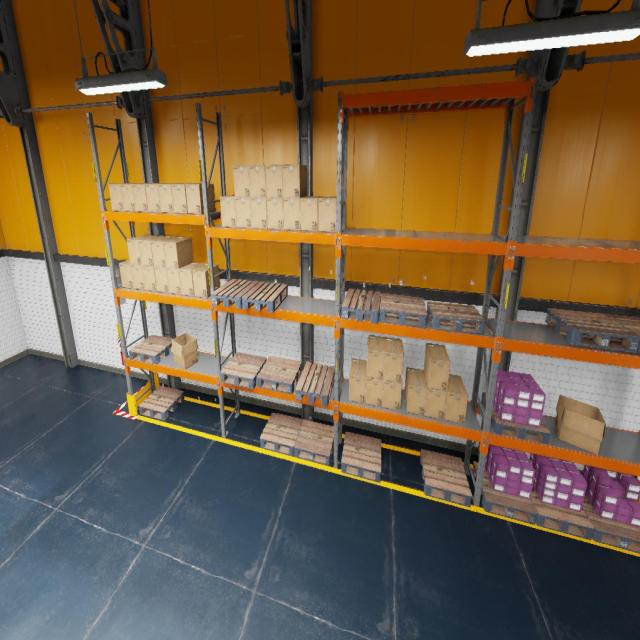box: (555, 394, 606, 454), (424, 343, 450, 391), (445, 374, 468, 424), (424, 370, 447, 420), (405, 367, 427, 415), (192, 263, 220, 298), (171, 333, 198, 369), (164, 237, 194, 268), (185, 184, 215, 214), (150, 236, 178, 268), (179, 262, 205, 296), (384, 337, 403, 383), (138, 235, 166, 266), (366, 335, 385, 380), (127, 235, 155, 265), (282, 165, 307, 198), (145, 183, 173, 212), (348, 358, 366, 403), (300, 196, 322, 231), (132, 183, 158, 212), (120, 183, 143, 212), (158, 183, 180, 213), (318, 196, 336, 232), (382, 380, 402, 410), (265, 165, 283, 197), (250, 197, 268, 229), (365, 377, 384, 407), (108, 183, 128, 211), (266, 198, 284, 229), (283, 198, 300, 230), (249, 165, 266, 197), (233, 165, 250, 197), (220, 195, 236, 227), (171, 184, 188, 213), (235, 198, 251, 228), (119, 260, 133, 288), (166, 268, 181, 294), (154, 266, 168, 292), (142, 265, 156, 291), (130, 265, 144, 290)
pallets: (545, 308, 640, 352), (472, 461, 537, 524), (481, 392, 550, 444), (530, 486, 594, 540), (582, 495, 640, 553), (420, 449, 472, 507), (341, 432, 381, 482), (427, 302, 486, 334), (260, 412, 302, 456), (294, 420, 334, 466), (220, 352, 266, 389), (379, 293, 427, 328), (257, 356, 301, 394), (296, 362, 334, 406), (139, 386, 184, 421), (341, 288, 381, 324), (242, 281, 287, 313), (211, 279, 259, 308), (604, 314, 640, 352), (129, 335, 173, 364)
